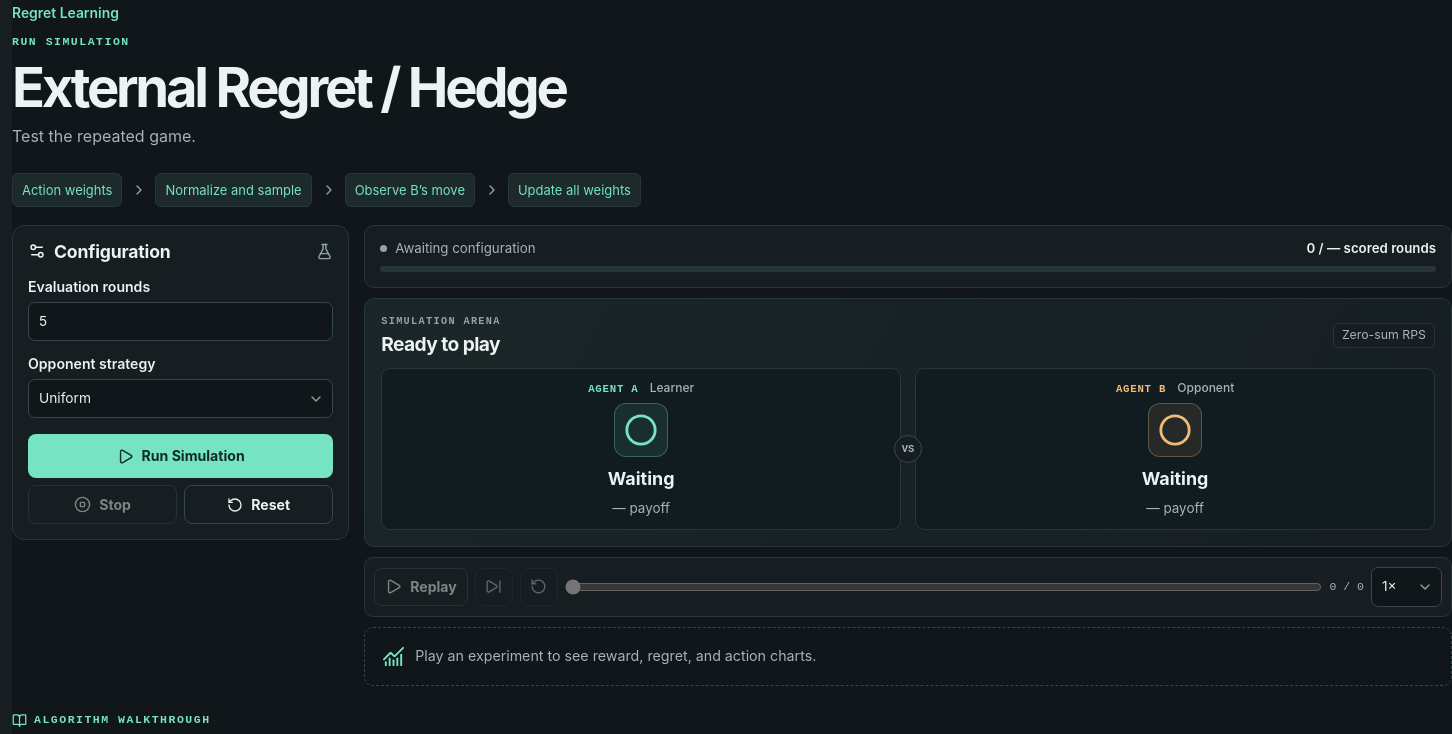
Test: live runner › submits parameters and plays real stream events while stop requests cancellation
Later steps or results of the test are not shown.
Select "Fixed" in the dropdown labelled "Opponent strategy" at (181, 399), box x1=28 y1=379 x2=333 y2=418
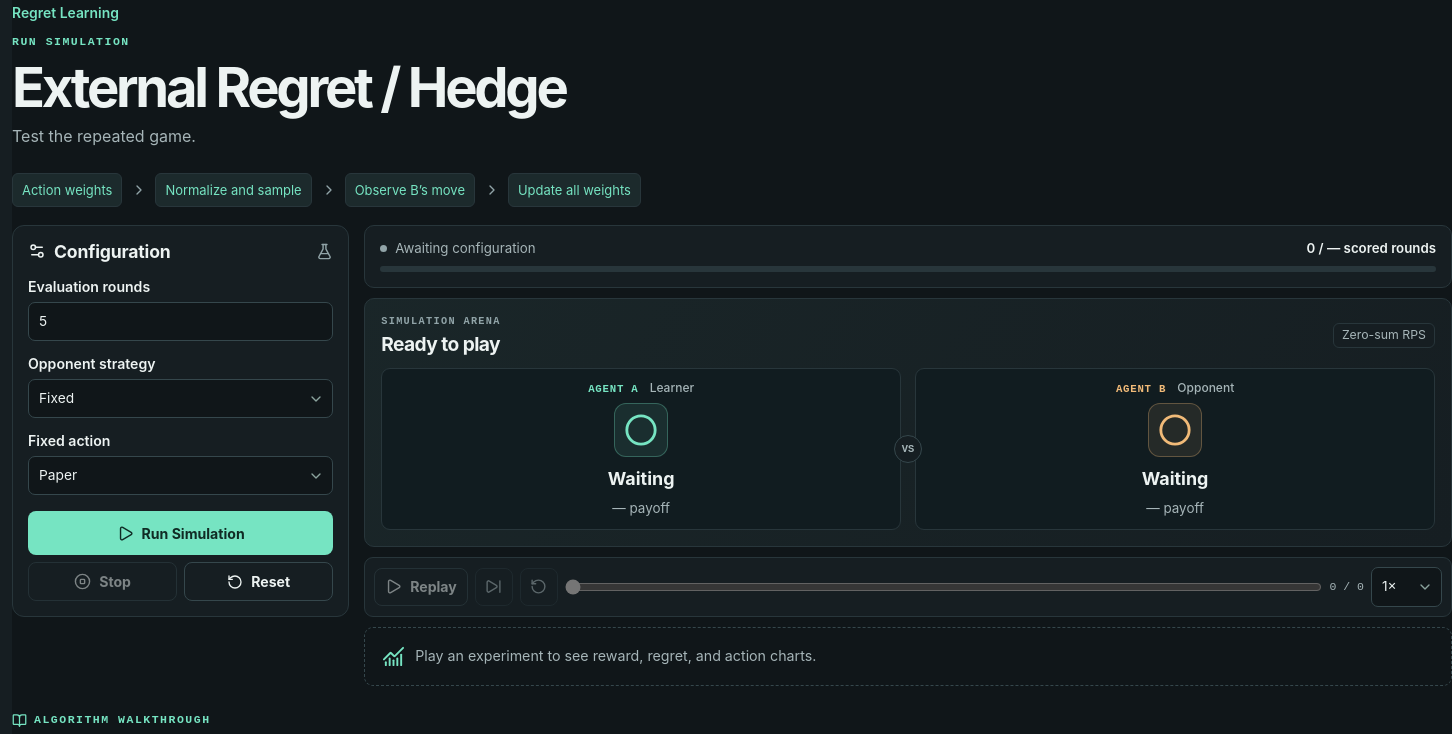
Result: the dropdown labelled "Fixed action" is shown at x1=28 y1=456 x2=333 y2=495
Click the button "Run Simulation" at (181, 533), box x1=28 y1=511 x2=333 y2=555
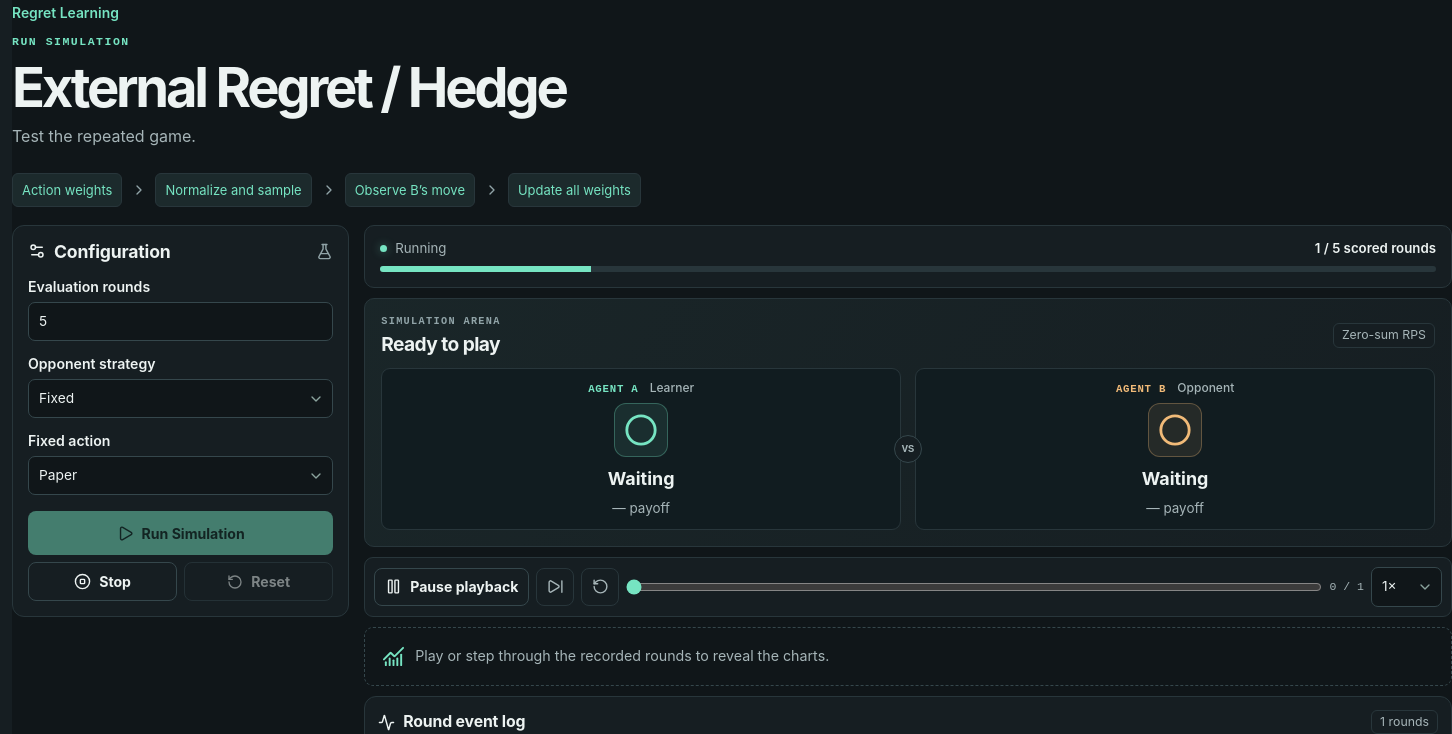
Result: the text "Running" is shown at x1=380 y1=238 x2=446 y2=258
Result: the text "1 / 5 scored rounds" is shown at x1=1315 y1=238 x2=1436 y2=258
Click the button named "Step to next round" at (556, 587), box x1=536 y1=568 x2=574 y2=606
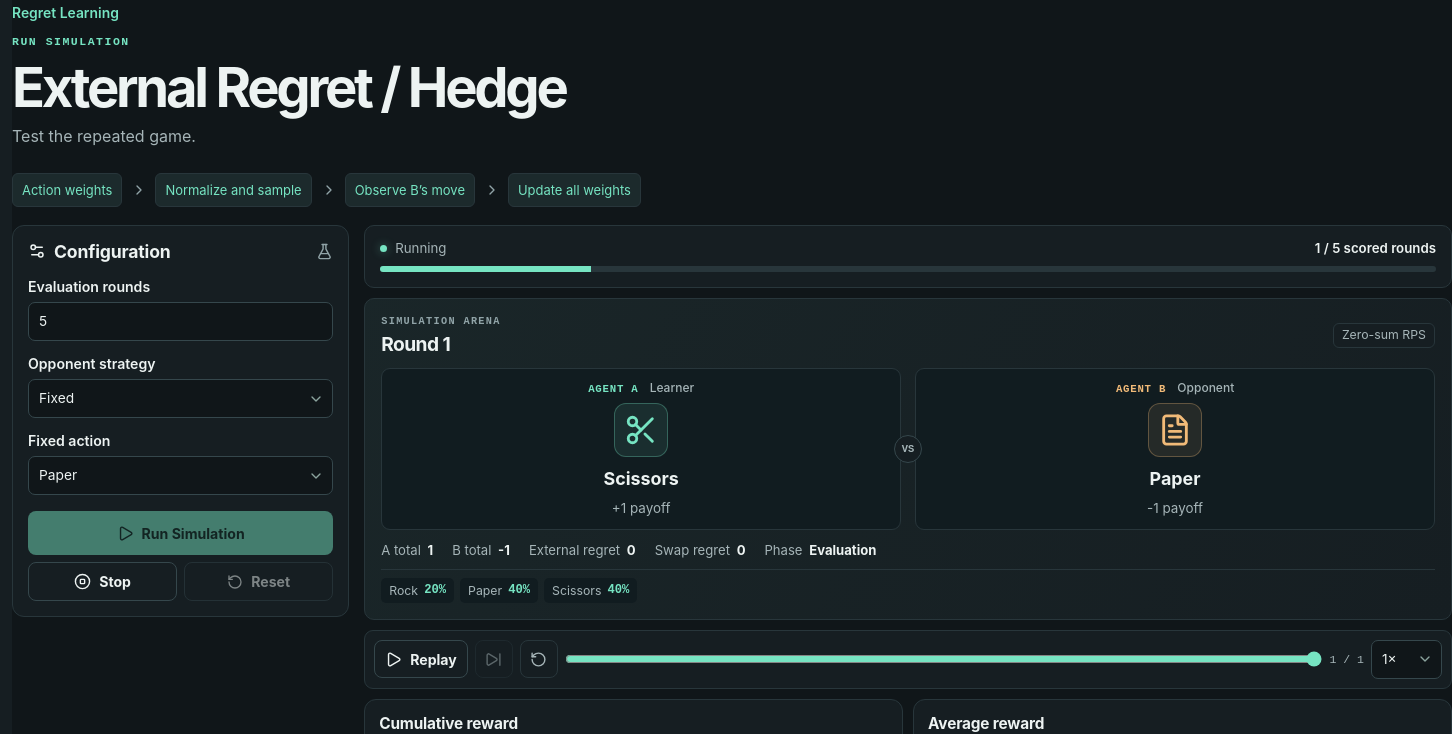
Click the button "Stop" at (103, 582), box x1=28 y1=562 x2=177 y2=601
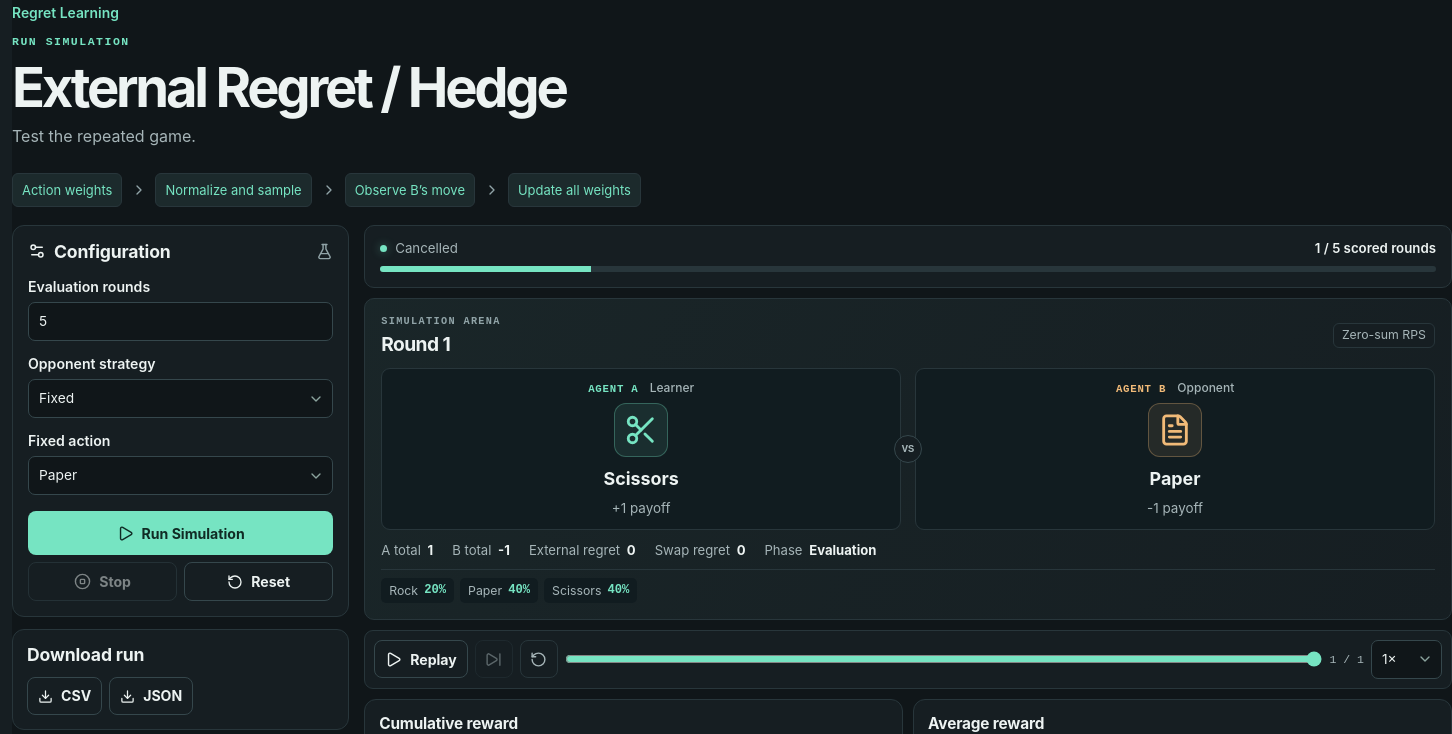
Result: the text "Cancelled" is shown at x1=380 y1=238 x2=458 y2=258
